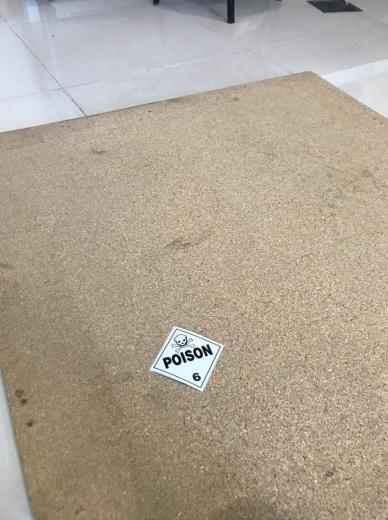poison: (150, 326, 222, 391)
